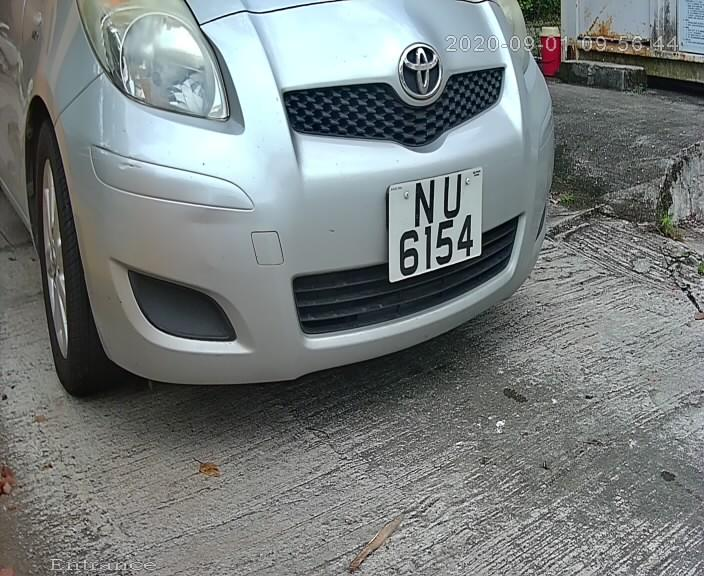License Plate: (381, 157, 491, 296)
